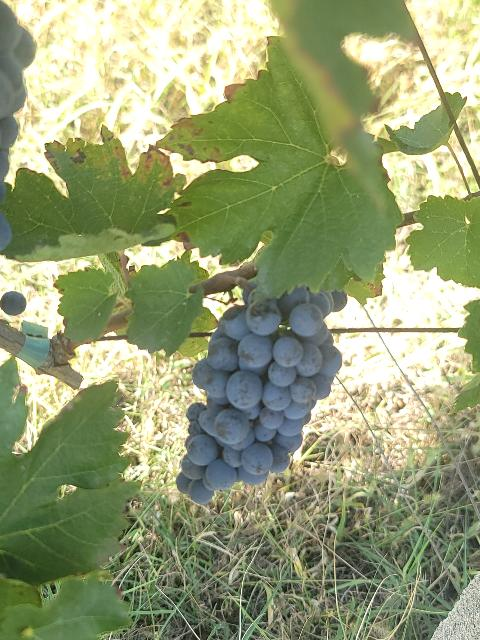grapes: (176, 286, 348, 505)
